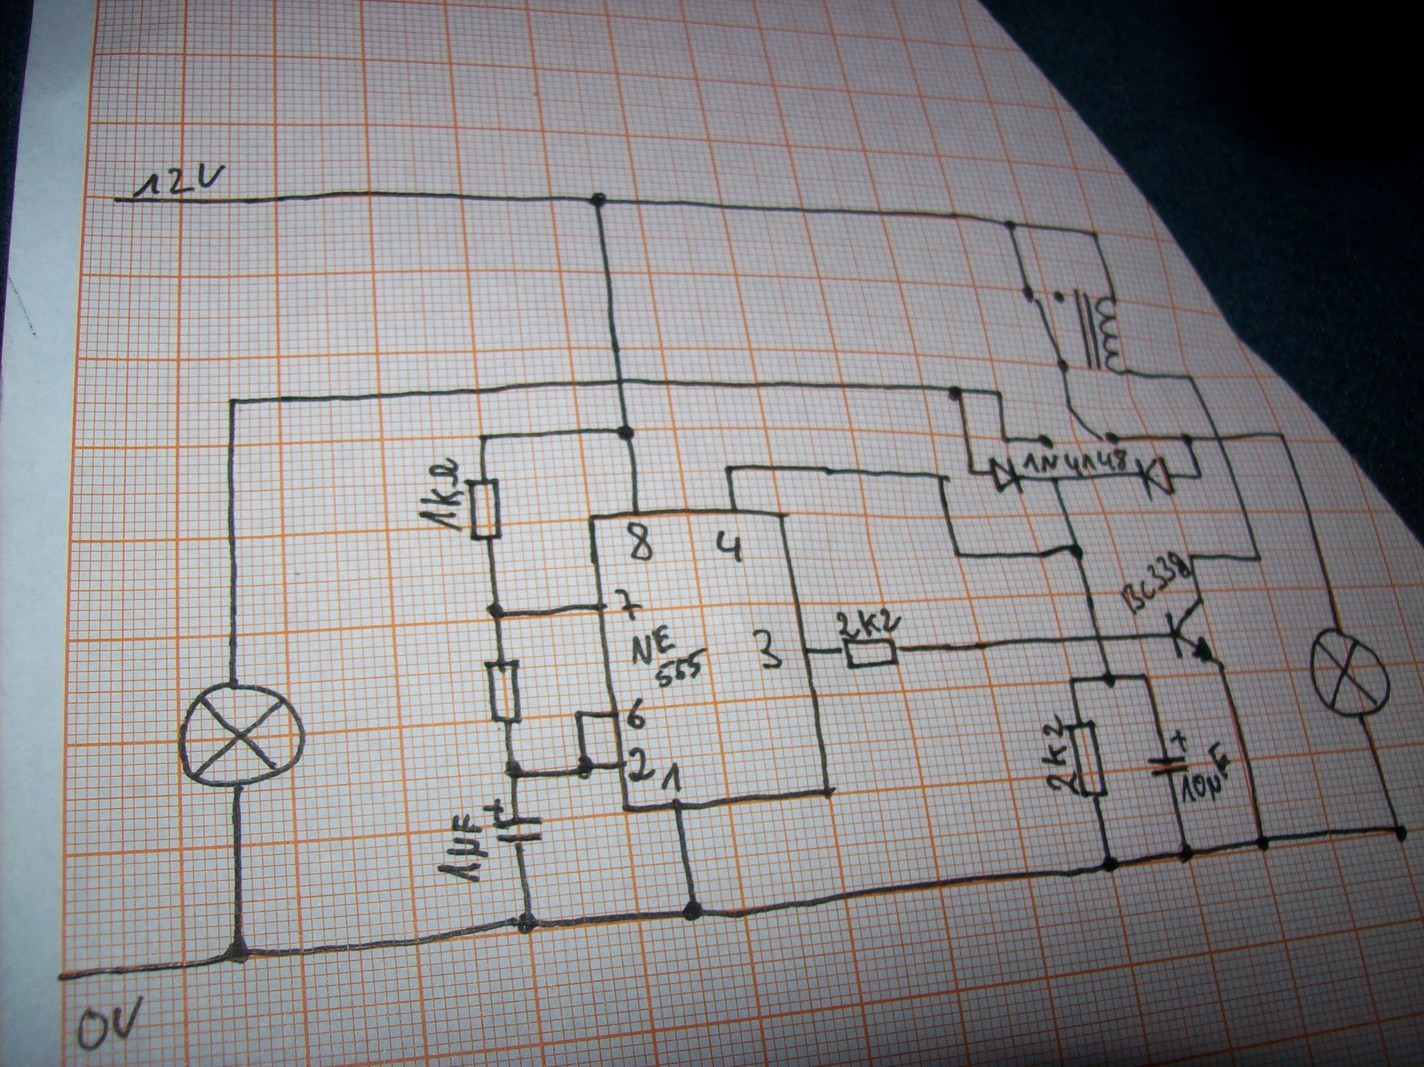capacitor.polarized: (482, 798, 545, 846), (1146, 730, 1189, 778)
crossover: (611, 373, 629, 389), (1211, 432, 1229, 445), (1090, 631, 1106, 644)
diode: (1134, 456, 1176, 503), (987, 455, 1025, 495)
integrated_cricuit.ne555: (587, 505, 837, 813)
junction: (223, 937, 251, 965), (516, 910, 538, 937), (681, 898, 702, 924), (574, 754, 594, 781), (504, 758, 525, 780), (1390, 822, 1411, 844), (1175, 842, 1194, 865), (485, 602, 508, 621), (614, 424, 636, 442), (1065, 542, 1086, 562), (1100, 855, 1120, 874), (588, 191, 608, 208), (1254, 834, 1272, 853), (947, 383, 964, 403), (1100, 671, 1117, 689), (1178, 432, 1195, 447), (722, 462, 738, 477), (936, 470, 952, 485), (1002, 219, 1018, 232), (225, 395, 240, 409), (477, 430, 492, 444), (1191, 470, 1207, 482), (573, 707, 586, 721), (951, 549, 966, 560), (1250, 553, 1265, 564), (1065, 674, 1078, 686), (993, 388, 1006, 399), (1048, 475, 1062, 485), (1275, 430, 1290, 440), (1089, 229, 1101, 240), (999, 434, 1011, 445), (1141, 670, 1151, 683), (965, 467, 977, 477), (1185, 551, 1197, 562), (1184, 373, 1195, 382)
lamp: (177, 681, 307, 788), (1309, 627, 1392, 720)
relay: (1020, 285, 1132, 377)
resistor: (1064, 720, 1110, 800), (482, 658, 524, 726), (463, 476, 504, 545), (838, 637, 902, 671)
switch: (1037, 403, 1120, 449)
terminal: (52, 968, 74, 989), (108, 191, 122, 207)
text: (631, 623, 708, 688), (1120, 550, 1191, 615), (76, 996, 145, 1051), (417, 456, 465, 533), (437, 814, 488, 884), (131, 163, 226, 197), (1041, 713, 1080, 797), (1181, 741, 1232, 804), (1022, 448, 1128, 476), (835, 607, 903, 639), (751, 627, 784, 670), (625, 520, 654, 562), (626, 745, 657, 783), (613, 587, 644, 622), (714, 530, 744, 565), (661, 761, 685, 794), (626, 695, 646, 731)
transistor: (1165, 599, 1223, 667)
